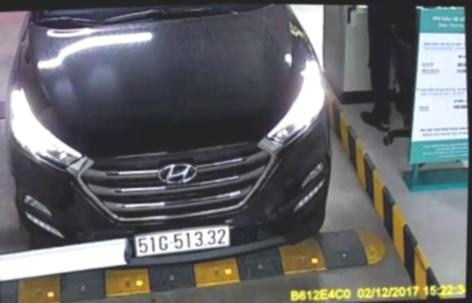License_Plate: (132, 224, 238, 261)
